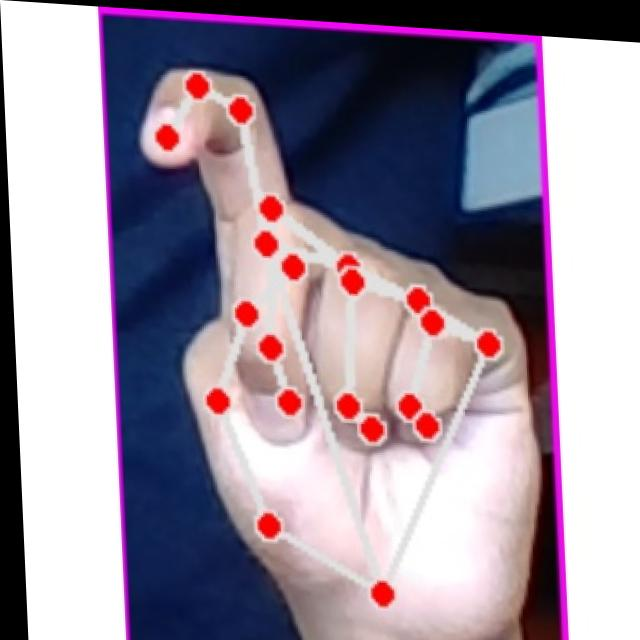Z: (128, 53, 539, 627)
